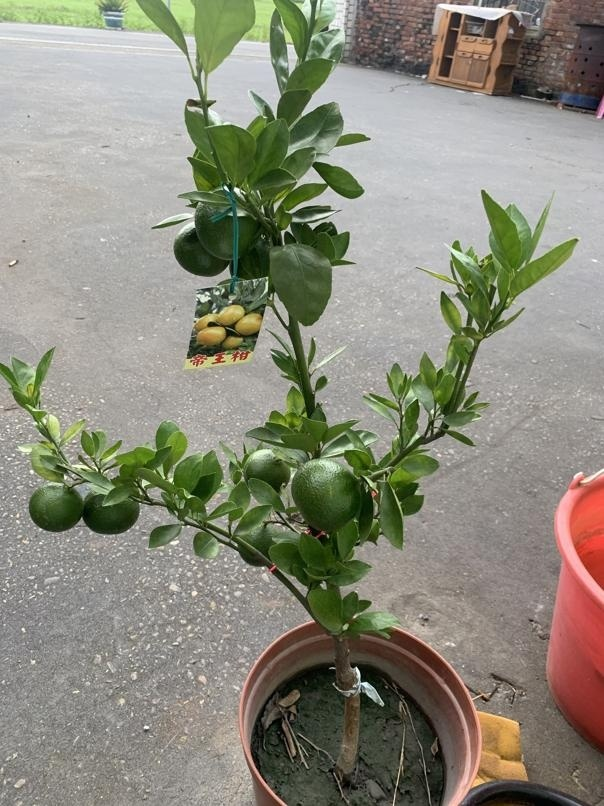Tangerine: (292, 454, 361, 530), (29, 479, 83, 531), (83, 488, 139, 537)
